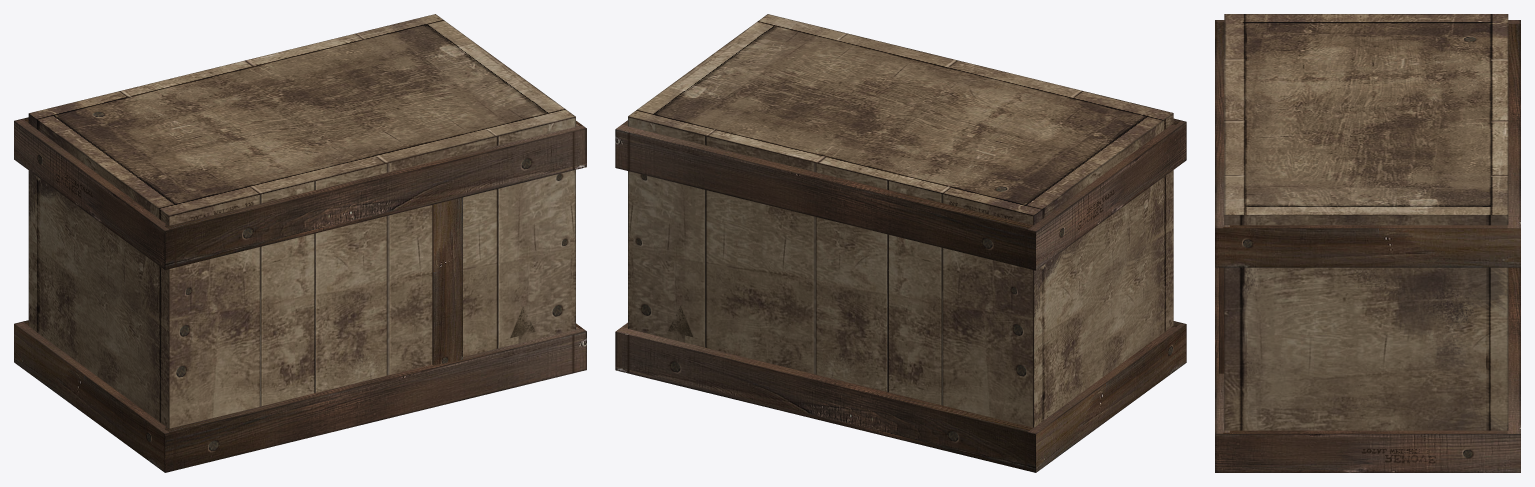
The model's file is woodbox1.fbx.
3 renders of one model, left to right at view 1: azimuth 30°, elevation 25°; view 2: azimuth 150°, elevation 25°; view 3: azimuth 270°, elevation 25°, orthographic.
Visible parts, largest first — view 1: woodbox1; view 2: woodbox1; view 3: woodbox1.
Part boxes in pixels (x1=…): woodbox1: x1=14, y1=14, x2=586, y2=472; woodbox1: x1=615, y1=14, x2=1186, y2=472; woodbox1: x1=1215, y1=14, x2=1520, y2=472.
Bounding box in the file's own units: 125 × 77.59 × 72.
